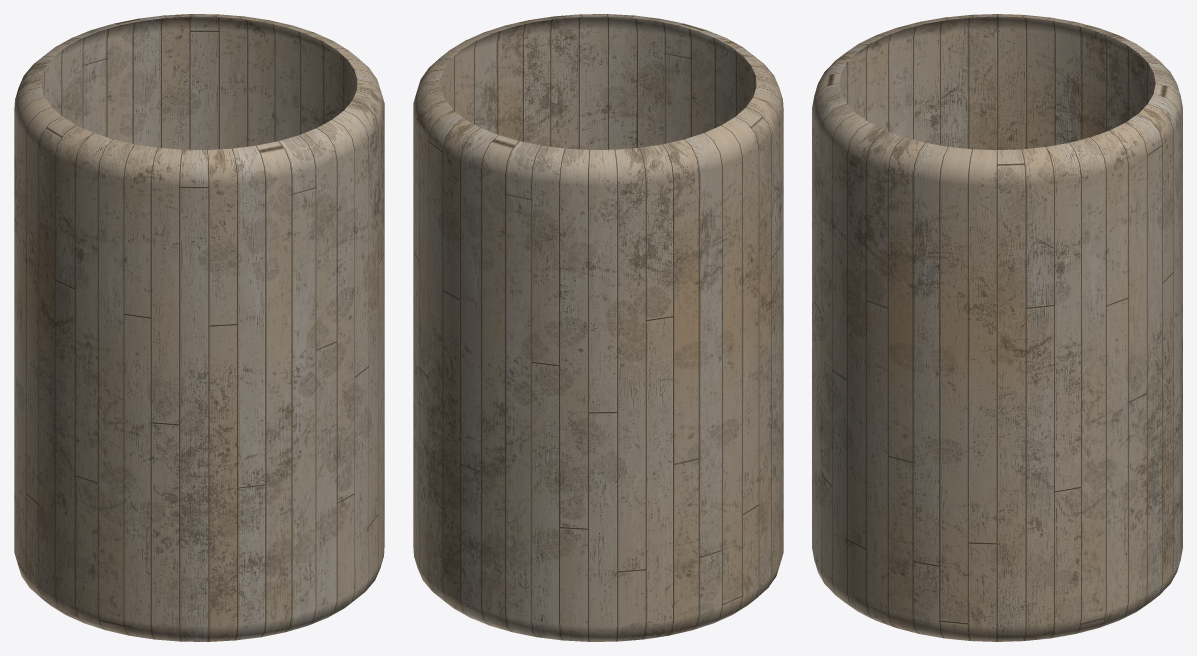
Rendered from bowling_alley_floor_texture.glb.
3 views of the same model, side by side, from view 1: azimuth 30°, elevation 25°; view 2: azimuth 150°, elevation 25°; view 3: azimuth 270°, elevation 25° (orthographic).
Visible parts, largest first — view 1: pCylinder1; view 2: pCylinder1; view 3: pCylinder1.
Part boxes in pixels (<box>): pCylinder1: <box>14,14,384,641</box>; pCylinder1: <box>413,14,783,641</box>; pCylinder1: <box>812,14,1182,641</box>.
Size of the model in its own units: 4.14 by 6.03 by 4.14.
Materials: 1 (1 with a texture image).
